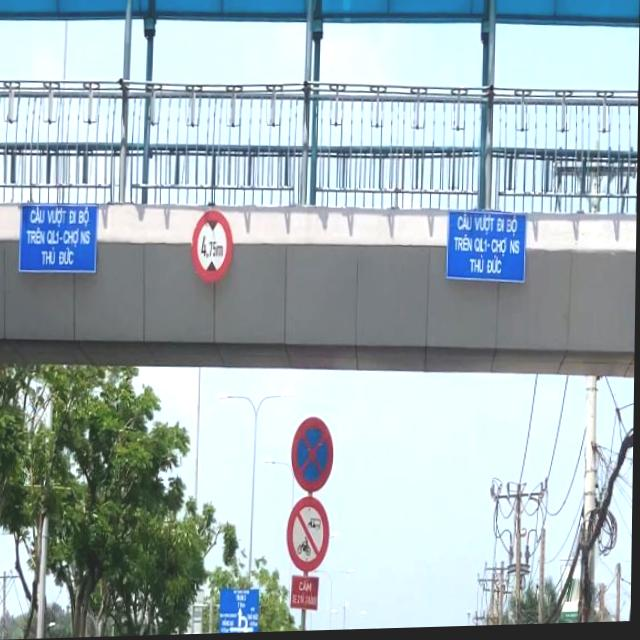Cam dung xe va do xe: (291, 417, 338, 499)
Han che chieu cao: (189, 207, 238, 292)
